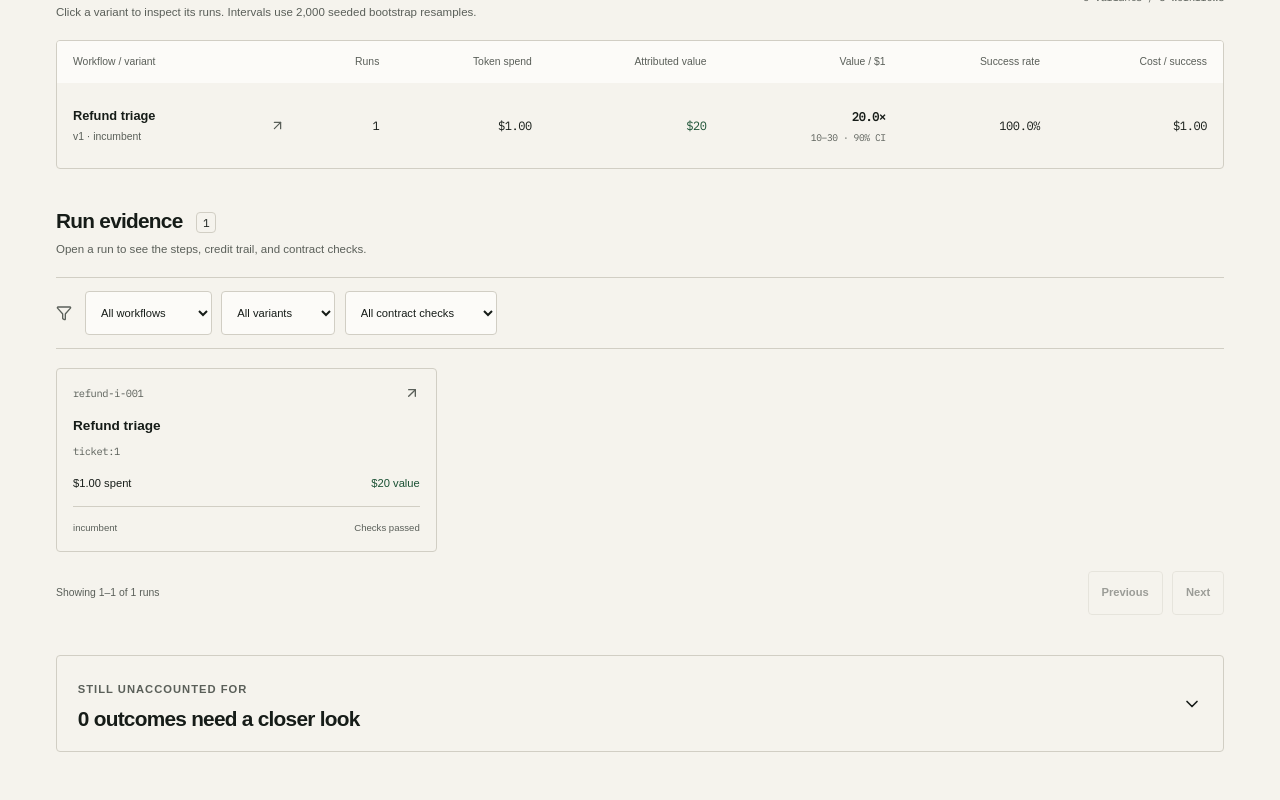
Test case: Evidence UI › filters ledger runs and opens a detail drawer
(page scrolled)
Click the button "refund-i-001".
click(108, 393)  # box [56,368,437,552]
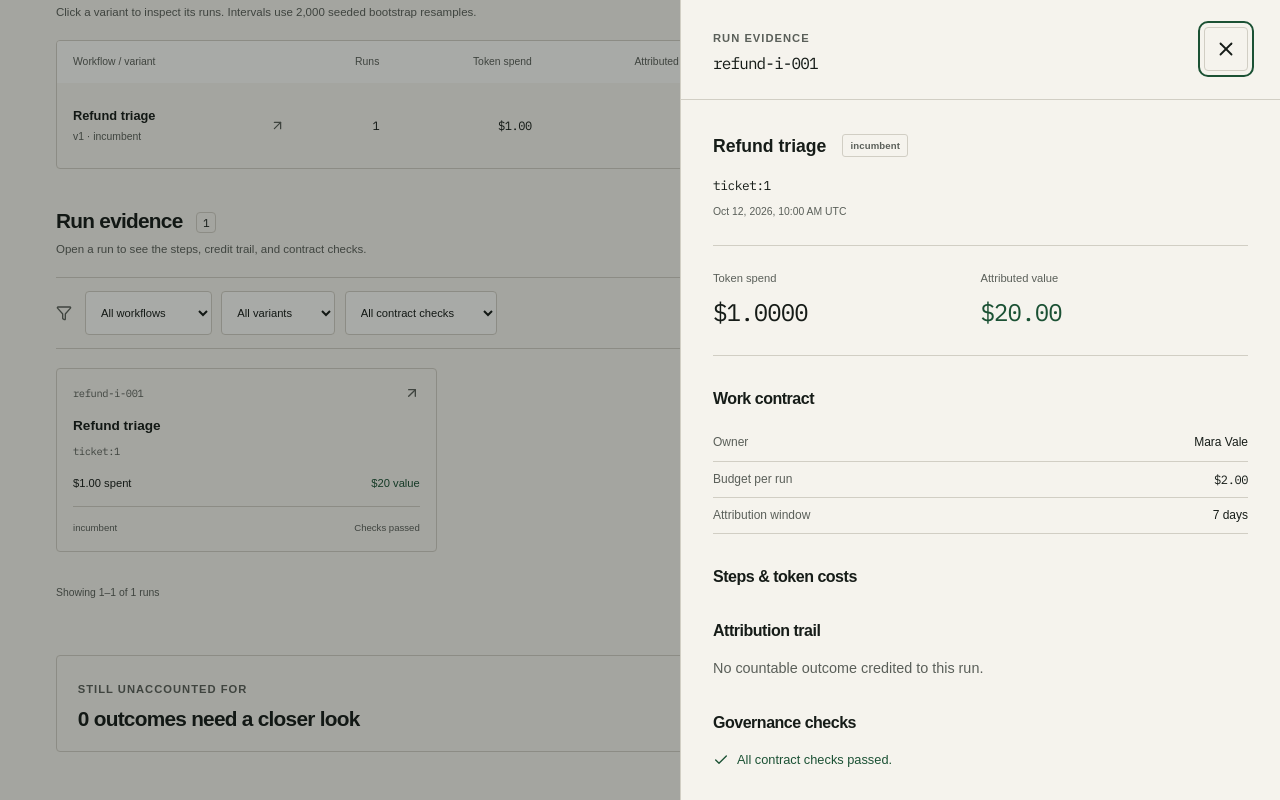
Expected: the dialog is shown, [680,0,1279,799]
Press Tab
Press Shift+Tab
Click the button named "Close run details".
click(1226, 49)  # box [1204,27,1248,71]
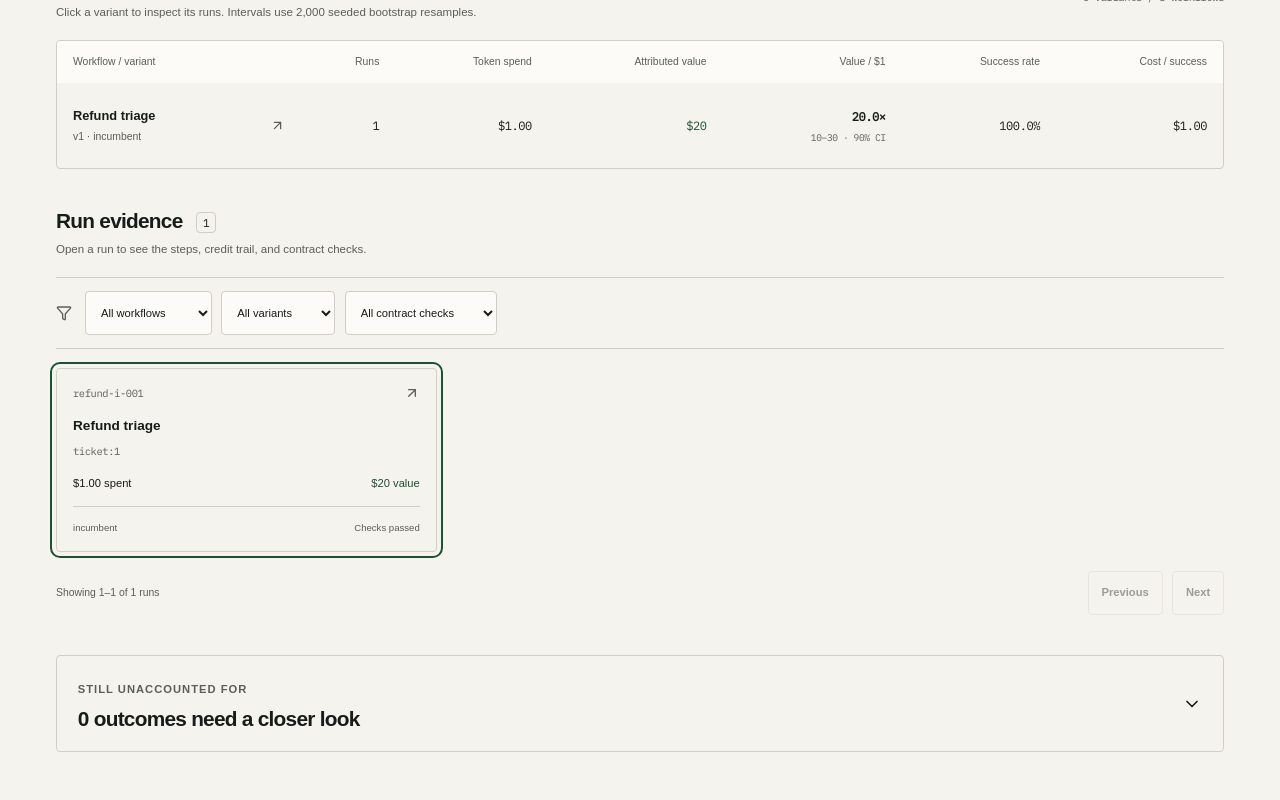
Select "Missing approval" in the 3rd dropdown named "Governance flag" at (421, 313), box [344,291,497,335]
(page scrolled)
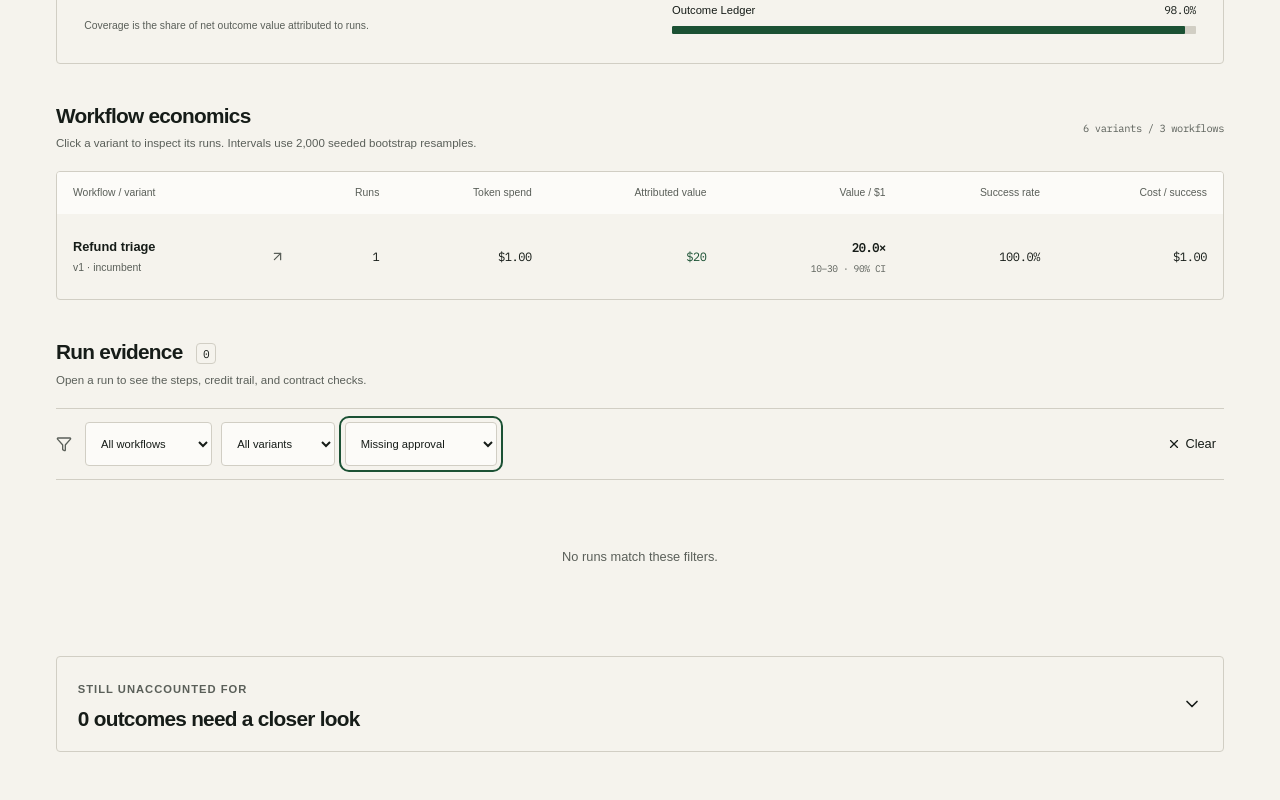
Expected: the text "No runs match these filters." is shown, [562,549,718,564]
